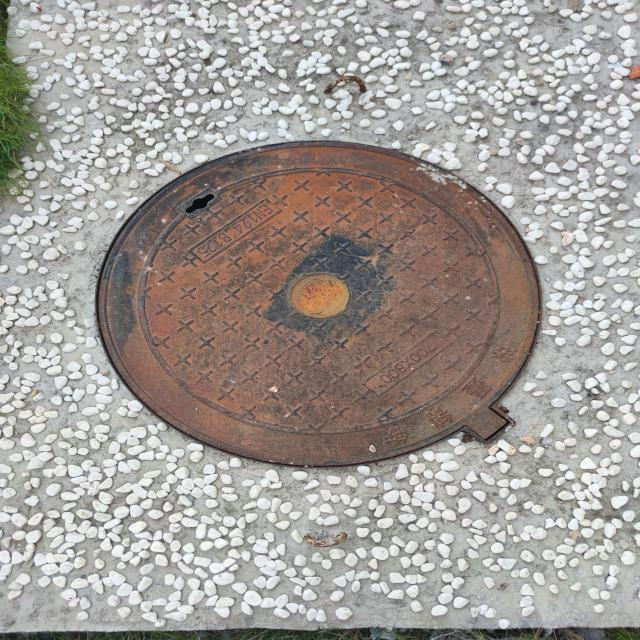Good: (82, 137, 554, 472)
